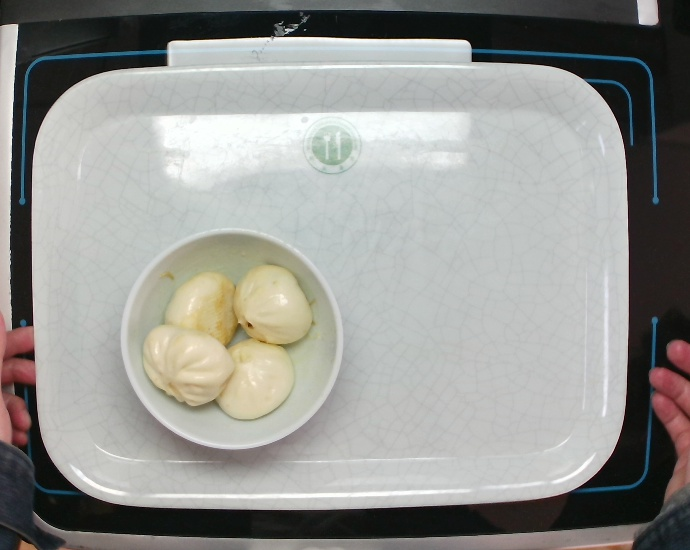JYsf-Fan_Wan: (115, 225, 347, 458)
